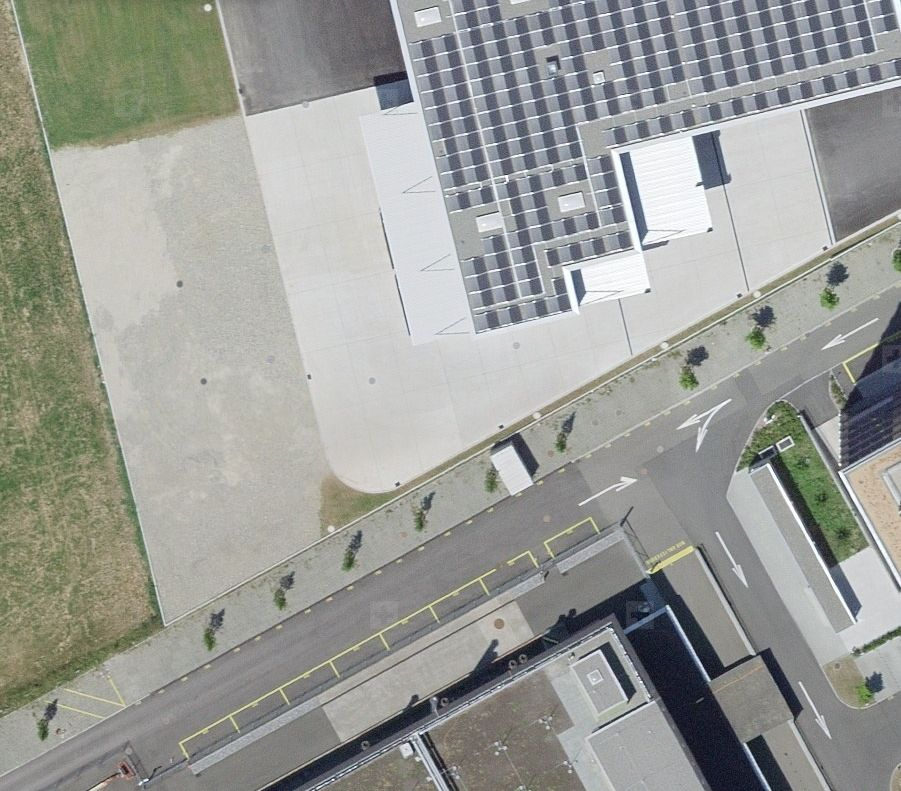solar: (409, 1, 900, 331)
